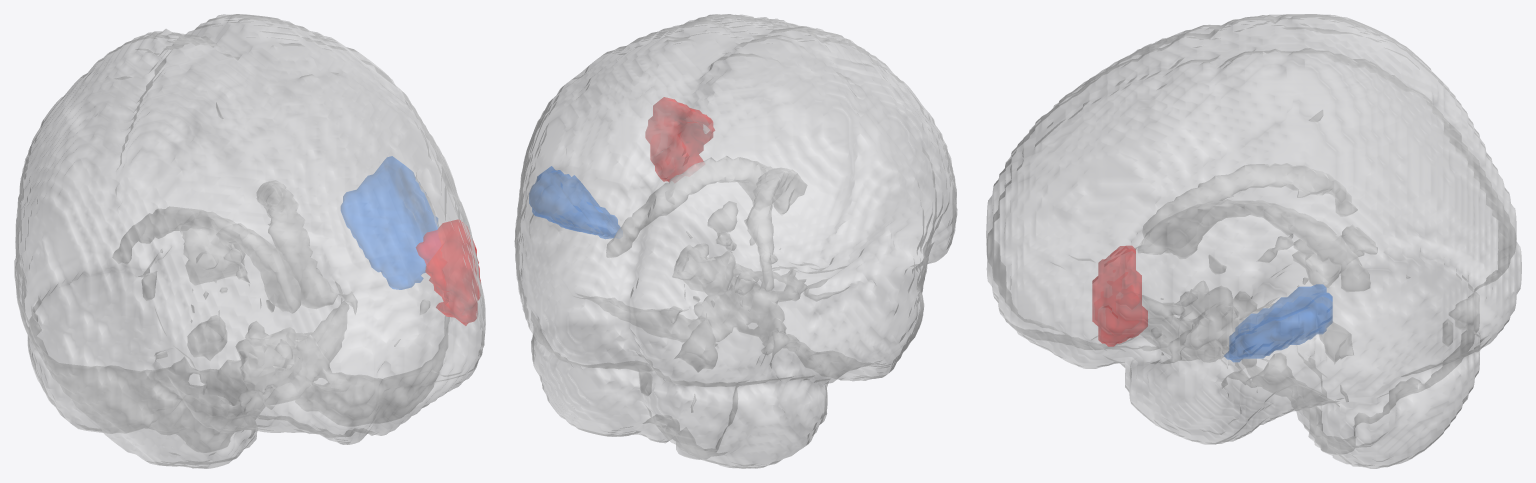
File: area-di-broca_area-di-wernicke.gltf
The picture shows the model from 3 angles, left to right: view 1: azimuth 30°, elevation 25°; view 2: azimuth 150°, elevation 25°; view 3: azimuth 270°, elevation 25°; orthographic projection. The views are drawn at different scales.
Parts seen in each view (by area): view 1: Node #2, Node #1, Node #0; view 2: Node #2, Node #0, Node #1; view 3: Node #2, Node #1, Node #0.
Part boxes in pixels (<box>): Node #2: <box>14,14,485,468</box>; Node #1: <box>341,156,437,289</box>; Node #0: <box>416,219,480,325</box>; Node #2: <box>514,14,957,468</box>; Node #0: <box>645,97,714,181</box>; Node #1: <box>529,166,620,238</box>; Node #2: <box>986,14,1521,468</box>; Node #1: <box>1224,284,1332,361</box>; Node #0: <box>1092,246,1147,346</box>.
Size of the model in its own units: 71.81 by 75.99 by 89.83.
